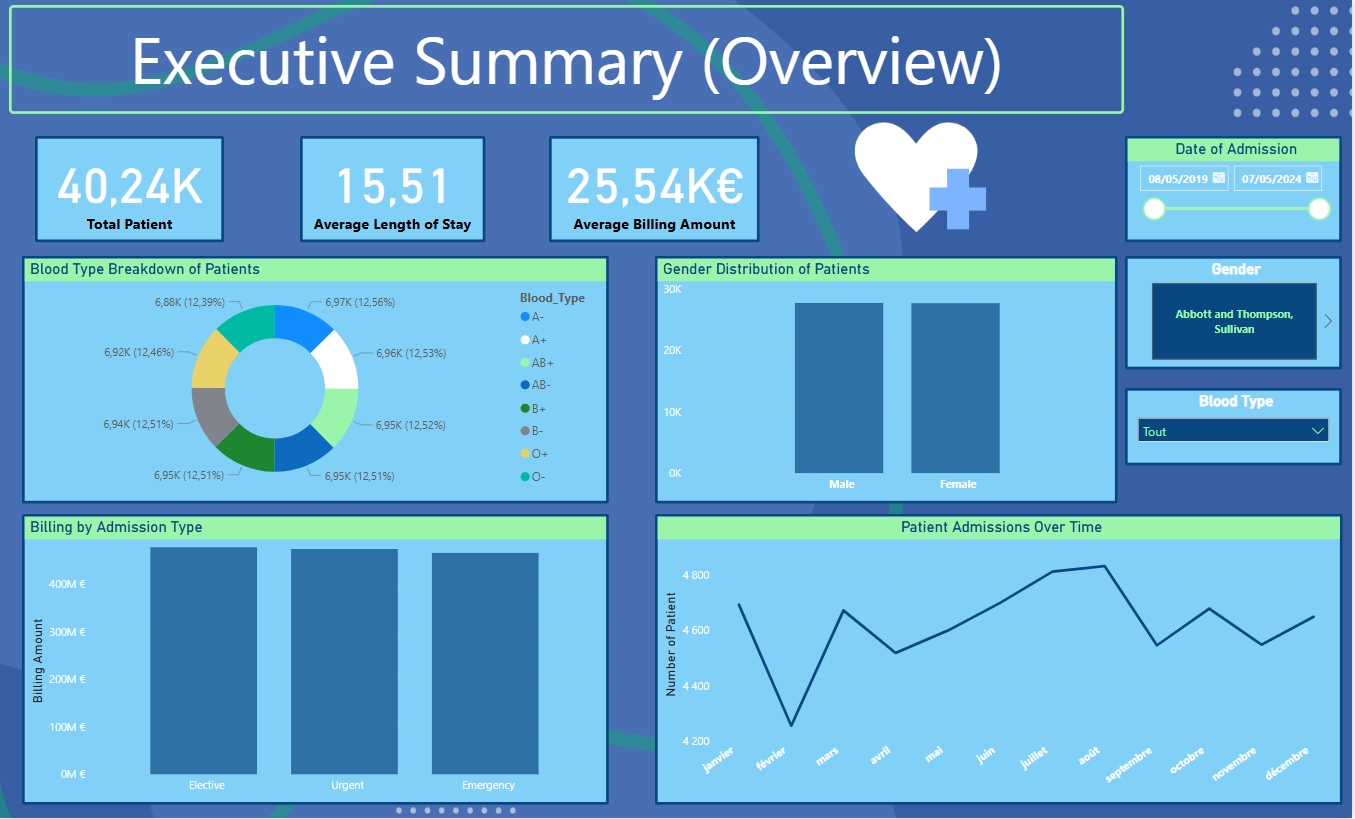

The page's visual inventory and layout, read from the dashboard file:
{"tool":"powerbi","page":{"name":"Overview","canvas":[1503,909],"ordinal":2},"visuals":[{"type":"card","fields":{"Values":["healthcare_dataset.Name"]},"box":[38.8,150.8,210.1,117.6],"z":0},{"type":"card","fields":{"Values":["healthcare_dataset.Billing_Amount"]},"box":[609.9,150.8,234.1,117.6],"z":1000},{"type":"card","fields":{"Values":["healthcare_dataset.Length of Stay"]},"box":[333.5,150.8,205.6,117.6],"z":2000},{"type":"textbox","box":[10.3,5.7,1239.2,121.1],"z":3000},{"type":"slicer","title":"Gender","fields":{"Values":["healthcare_dataset.Hospital"]},"box":[1249.5,284.4,241,125.6],"z":4000},{"type":"slicer","title":"Blood Type","fields":{"Values":["healthcare_dataset.Blood_Type"]},"box":[1249.5,430.6,241,85.7],"z":5000},{"type":"slicer","title":"Date of Admission","fields":{"Values":["healthcare_dataset.Date_of_Admission"]},"box":[1249.5,150.8,241,117.6],"z":6000},{"type":"columnChart","title":"Gender Distribution of Patients","fields":{"Category":["healthcare_dataset.Gender"],"Y":["healthcare_dataset.Name"]},"box":[727.5,284.4,513.9,275.2],"z":7000},{"type":"donutChart","title":"Blood Type Breakdown of Patients","fields":{"Y":["healthcare_dataset.Blood_Type"],"Category":["healthcare_dataset.Blood_Type"]},"box":[24,284.4,652.1,275.2],"z":8000},{"type":"lineChart","title":"Patient Admissions Over Time","fields":{"Y":["healthcare_dataset.Admission_Type"],"Category":["healthcare_dataset.Date_of_Admission.Variation.Hiérarchie de dates.Année","healthcare_dataset.Date_of_Admission.Variation.Hiérarchie de dates.Mois"]},"box":[727.5,571,764.1,323.2],"z":9000},{"type":"clusteredColumnChart","title":"Billing by Admission Type","fields":{"Y":["healthcare_dataset.Billing_Amount"],"Category":["healthcare_dataset.Admission_Type"]},"box":[24,571,652.1,323.2],"z":10000}]}

Visuals, with their boxes in screenshot pixels (x1, y1, x2, y2), scaled from the page's 1503x909 canvas onto the 1355x819 screenshot:
card - healthcare_dataset.Name: <box>35,136,224,242</box>
card - healthcare_dataset.Billing_Amount: <box>550,136,761,242</box>
card - healthcare_dataset.Length of Stay: <box>301,136,486,242</box>
textbox: <box>9,5,1126,114</box>
"Gender" slicer: <box>1126,256,1344,369</box>
"Blood Type" slicer: <box>1126,388,1344,465</box>
"Date of Admission" slicer: <box>1126,136,1344,242</box>
"Gender Distribution of Patients" columnChart: <box>656,256,1119,504</box>
"Blood Type Breakdown of Patients" donutChart: <box>22,256,610,504</box>
"Patient Admissions Over Time" lineChart: <box>656,514,1345,806</box>
"Billing by Admission Type" clusteredColumnChart: <box>22,514,610,806</box>
